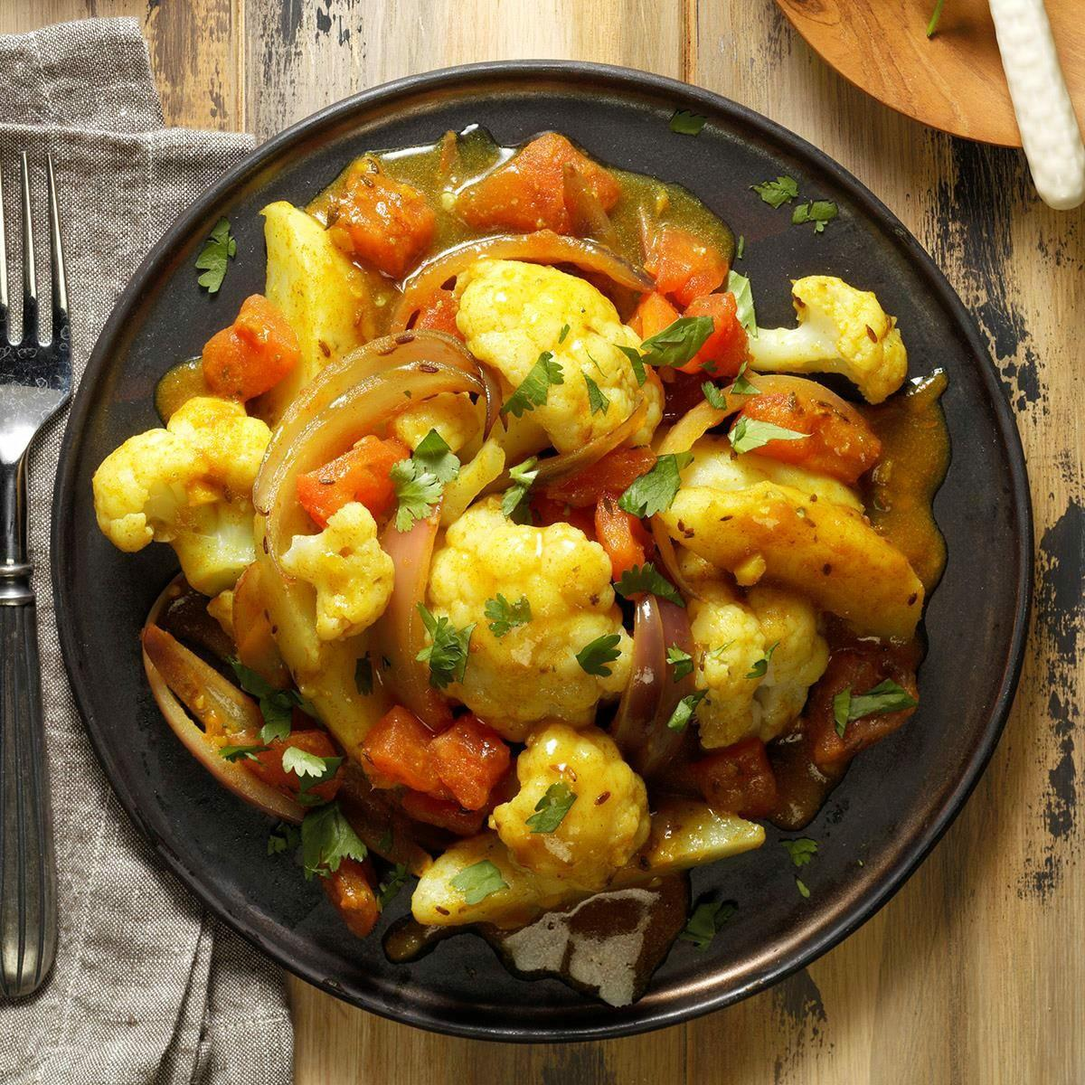AlooGobi: (93, 134, 923, 932)
